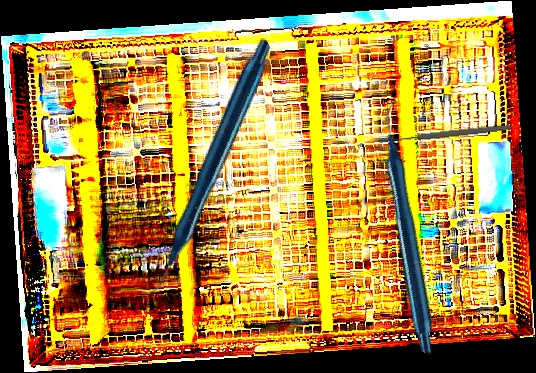Handpiece: (61, 35, 349, 301), (295, 98, 528, 357)
Surgical Spoon: (376, 122, 513, 146)
